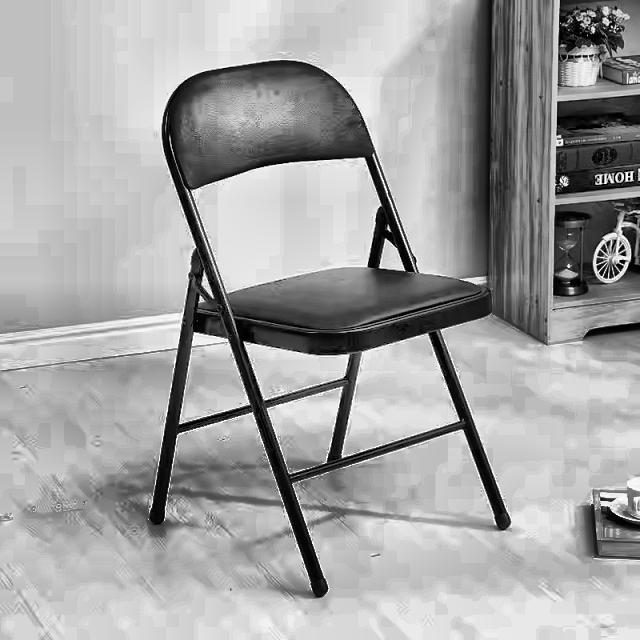cadeira: (152, 52, 510, 603)
